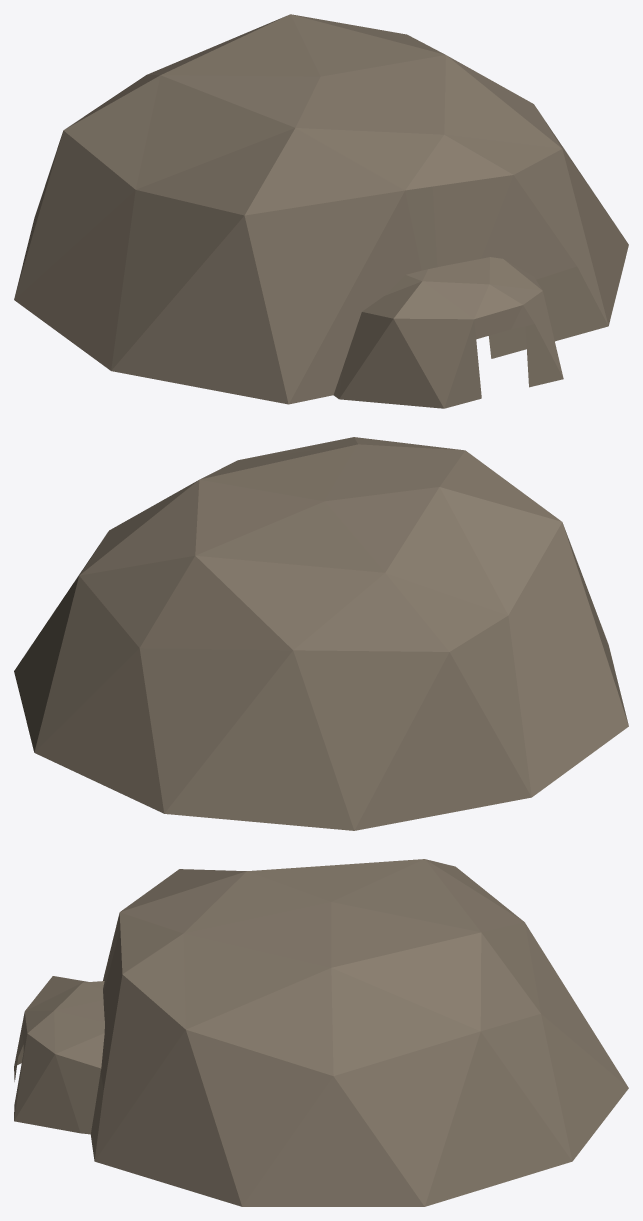
The model's file is goodmountain.fbx.
3 renders of one model, top to bottom at view 1: azimuth 30°, elevation 25°; view 2: azimuth 150°, elevation 25°; view 3: azimuth 270°, elevation 25°, orthographic. The views are drawn at different scales.
Visible parts, largest first — view 1: Icosphere.001; view 2: Icosphere.001; view 3: Icosphere.001.
Boxes of the visible parts, x1,y1,x2,y2 form: Icosphere.001: [14, 14, 628, 408]; Icosphere.001: [14, 437, 628, 830]; Icosphere.001: [14, 859, 628, 1206].
Bounding box in the file's own units: 28341 × 10329 × 31015.
